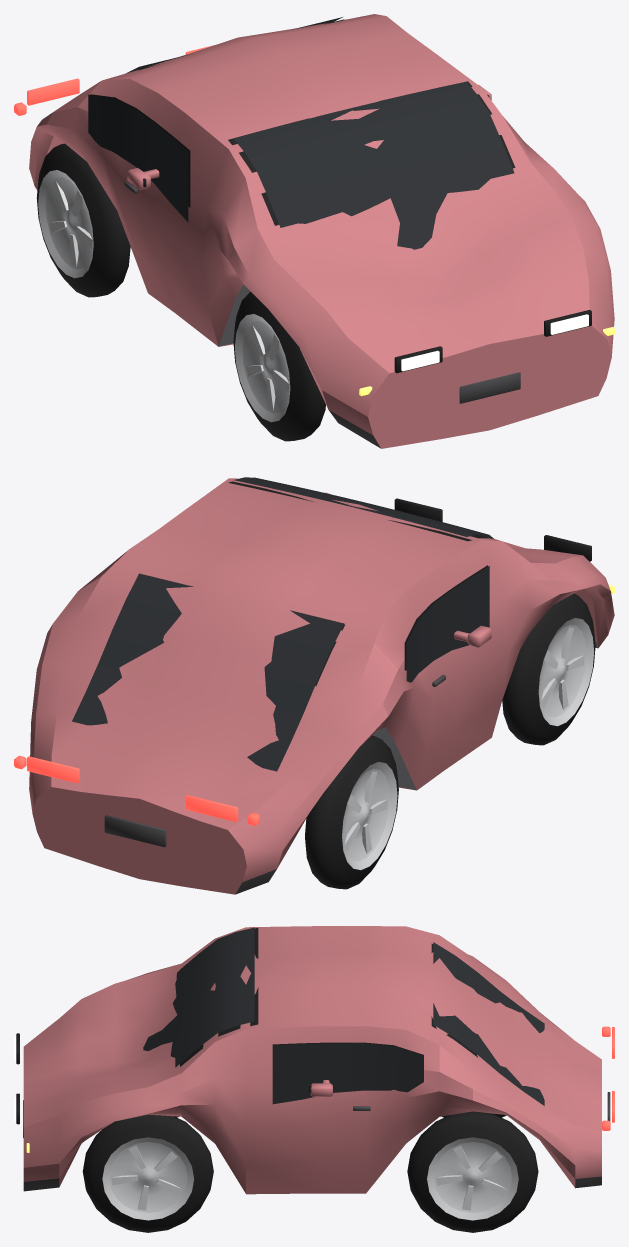
Rendered from hatch_common_v2.glb.
3 renders of one model, top to bottom at view 1: azimuth 30°, elevation 25°; view 2: azimuth 150°, elevation 25°; view 3: azimuth 270°, elevation 25°, orthographic. The views are drawn at different scales.
Visible parts, largest first — view 1: Body, Windshield, RL, FL, SideGlassL, PlateFront, TailL, WindshieldSeal; view 2: Body, RearGlass, RL, FL, SideGlassL, Windshield, PlateRear, TailL, TailR, HeadHousingL, HeadHousingR; view 3: Body, RR, FR, Windshield, SideGlassR, RearGlass, WindshieldSeal.
Part boxes in pixels (x1,y1,x2,y2): Body: [29, 14, 614, 448]; Windshield: [234, 82, 514, 249]; RL: [36, 143, 130, 297]; FL: [233, 291, 325, 441]; SideGlassL: [88, 94, 188, 222]; PlateFront: [459, 372, 520, 403]; TailL: [27, 78, 79, 105]; WindshieldSeal: [228, 81, 515, 225]; Body: [29, 478, 614, 894]; RearGlass: [72, 573, 344, 771]; RL: [305, 735, 398, 889]; FL: [502, 593, 595, 745]; SideGlassL: [406, 566, 489, 682]; Windshield: [234, 477, 493, 538]; PlateRear: [104, 815, 166, 847]; TailL: [185, 795, 238, 821]; TailR: [27, 756, 79, 783]; HeadHousingL: [544, 535, 591, 561]; HeadHousingR: [394, 498, 442, 521]; Body: [23, 926, 601, 1194]; RR: [407, 1111, 538, 1232]; FR: [82, 1114, 213, 1232]; Windshield: [143, 927, 254, 1067]; SideGlassR: [272, 1043, 423, 1104]; RearGlass: [433, 942, 544, 1105]; WindshieldSeal: [180, 928, 258, 1066].
Size of the model in its own units: 1.51 by 1.04 by 2.7.
